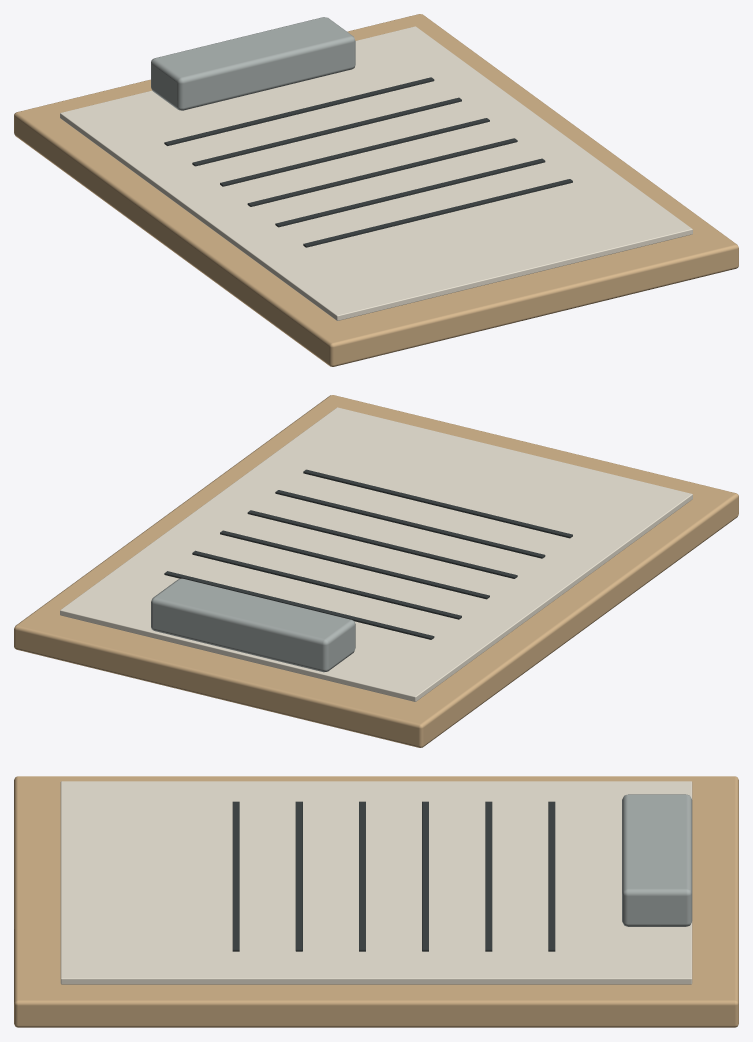
Rendered from coffee-roastery-and-cupping-room-coffee-roastery-and-c-e28dfcc7__32217.glb.
The picture shows the model from 3 angles, top to bottom: view 1: azimuth 30°, elevation 25°; view 2: azimuth 150°, elevation 25°; view 3: azimuth 270°, elevation 25°; orthographic projection. The views are drawn at different scales.
Visible parts, largest first — view 1: coffee-roastery-and-cupping-room-cupping-score-clipboard; view 2: coffee-roastery-and-cupping-room-cupping-score-clipboard; view 3: coffee-roastery-and-cupping-room-cupping-score-clipboard.
Part boxes in pixels (box(x1,y1,x2,y2)): coffee-roastery-and-cupping-room-cupping-score-clipboard: box(14, 14, 738, 366); coffee-roastery-and-cupping-room-cupping-score-clipboard: box(14, 395, 738, 747); coffee-roastery-and-cupping-room-cupping-score-clipboard: box(14, 776, 738, 1027).
Size of the model in its own units: 0.23 by 0.035 by 0.31.
